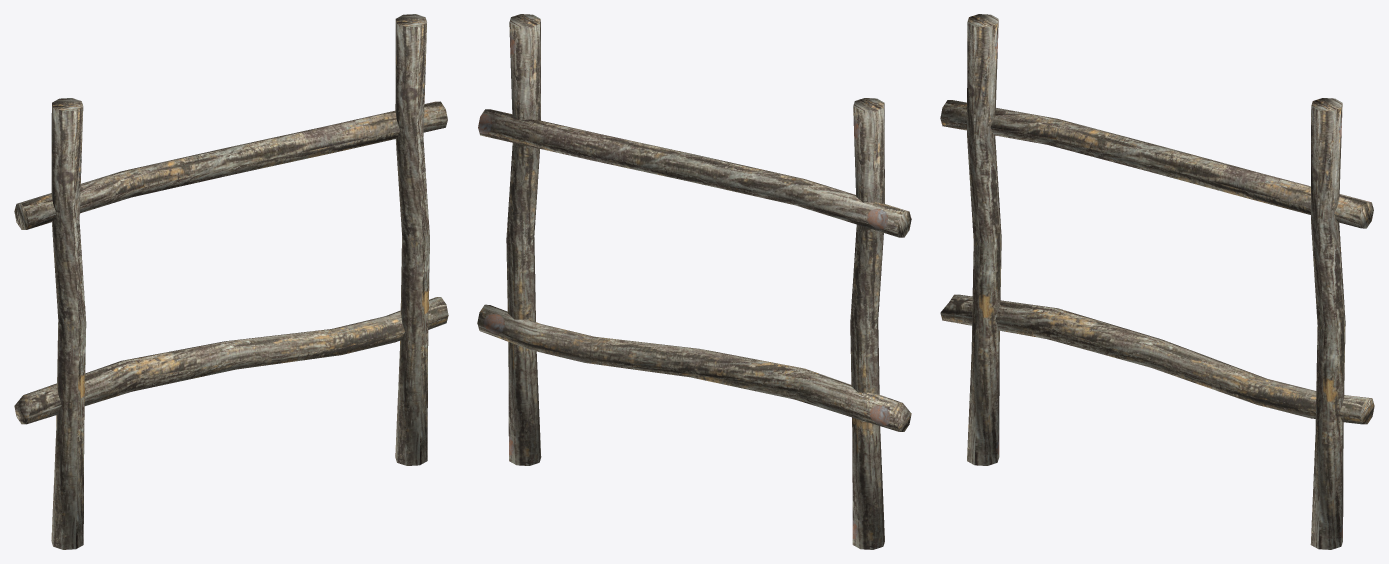
Rendered from fence3.gltf.
3 views of the same model, side by side, from view 1: azimuth 30°, elevation 25°; view 2: azimuth 150°, elevation 25°; view 3: azimuth 330°, elevation 25° (orthographic).
Parts seen in each view (by area): view 1: Wood_03.005, Wood_03.004, Wood_02.001, Wood_01.001; view 2: Wood_02.001, Wood_01.001, Wood_03.004, Wood_03.005; view 3: Wood_03.005, Wood_03.004, Wood_02.001, Wood_01.001.
Boxes of the visible parts, x1,y1,x2,y2 form: Wood_03.005: (51, 98, 86, 549); Wood_03.004: (395, 14, 429, 465); Wood_02.001: (14, 297, 448, 424); Wood_01.001: (14, 101, 447, 229); Wood_02.001: (477, 304, 911, 431); Wood_01.001: (478, 109, 911, 237); Wood_03.004: (506, 14, 541, 465); Wood_03.005: (850, 98, 884, 549); Wood_03.005: (967, 14, 1001, 465); Wood_03.004: (1310, 98, 1345, 549); Wood_02.001: (940, 294, 1374, 424); Wood_01.001: (940, 100, 1373, 228).
Size of the model in its own units: 200 by 200 by 17.76.
1 material, 1 textured.
